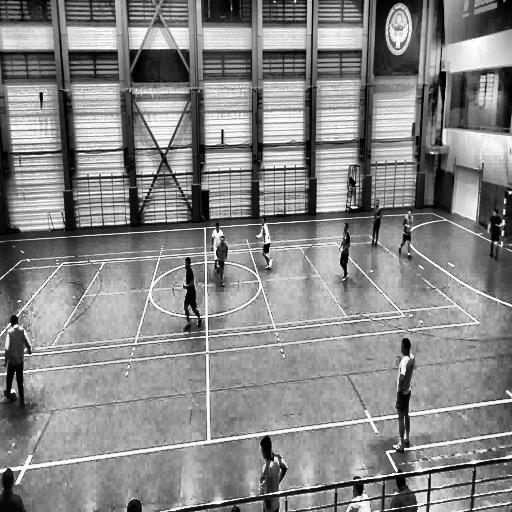ball: (9, 388, 17, 402)
player: (391, 338, 413, 454), (4, 313, 31, 406), (258, 437, 287, 511), (181, 256, 203, 330), (251, 214, 273, 270), (487, 208, 502, 258), (398, 208, 412, 258), (211, 221, 225, 271), (339, 222, 350, 281), (216, 235, 228, 287), (371, 200, 382, 246)
